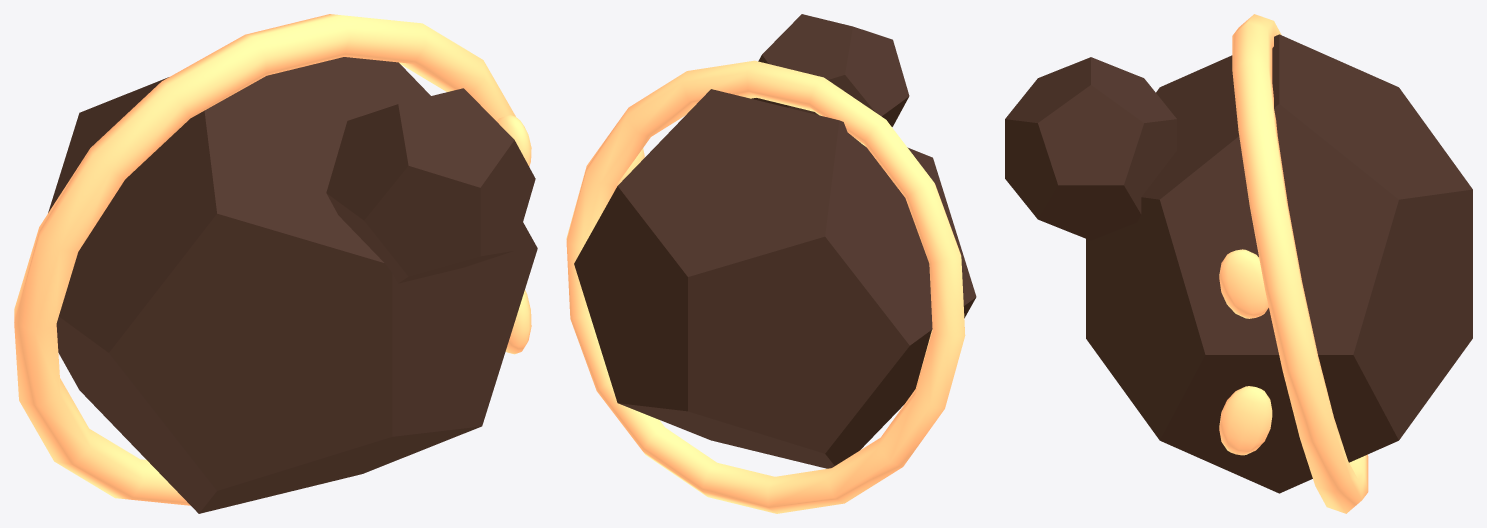
File: trauma-nieprzebaczenie.glb
The picture shows the model from 3 angles, left to right: view 1: azimuth 30°, elevation 25°; view 2: azimuth 150°, elevation 25°; view 3: azimuth 270°, elevation 25°; orthographic projection. The views are drawn at different scales.
Parts seen in each view (by area): view 1: Shadow, Glow; view 2: Shadow, Glow; view 3: Shadow, Glow.
Boxes of the visible parts, x1=… form: Shadow: x1=48, y1=57, x2=537, y2=513; Glow: x1=14, y1=14, x2=531, y2=505; Shadow: x1=574, y1=14, x2=976, y2=468; Glow: x1=566, y1=60, x2=965, y2=513; Shadow: x1=1005, y1=34, x2=1472, y2=493; Glow: x1=1219, y1=14, x2=1368, y2=513.
Size of the model in its own units: 1.22 by 1.18 by 1.12.
